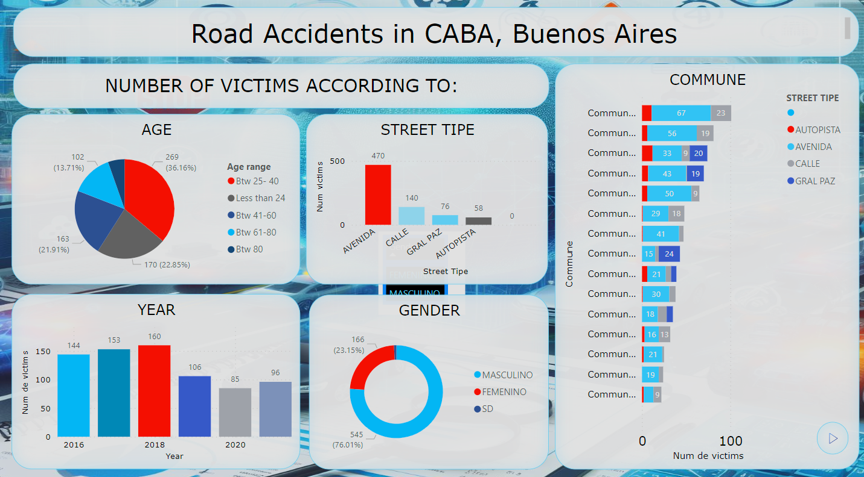

The page's visual inventory and layout, read from the dashboard file:
{"tool":"powerbi","page":{"name":"VICTIMSBY","canvas":[1280,720],"ordinal":1},"visuals":[{"type":"pieChart","title":"AGE","fields":{"Y":["Sum(df_road_accidents.Num victims)"],"Category":["df_road_accidents.Age range"]},"box":[19.3,174.9,425.7,252.1],"z":1000},{"type":"textbox","box":[21.1,16.7,1247.5,73.4],"z":3000},{"type":"barChart","title":"COMMUNE","fields":{"Category":["df_road_accidents.Commune"],"Series":["df_road_accidents.Street Tipe"],"Y":["Sum(df_road_accidents.Num victims)"]},"box":[820.2,100.2,448.5,599.8],"z":3500},{"type":"clusteredColumnChart","title":"YEAR","fields":{"Category":["df_road_accidents.Date.Variación.Jerarquía de fechas.Año","df_road_accidents.Date.Variación.Jerarquía de fechas.Trimestre","df_road_accidents.Date.Variación.Jerarquía de fechas.Mes","df_road_accidents.Date.Variación.Jerarquía de fechas.Día"],"Y":["Sum(df_road_accidents.Num victims)"]},"box":[19.3,440.2,425.7,259.3],"z":4000},{"type":"columnChart","title":"STREET TIPE","fields":{"Category":["df_road_accidents.Street Tipe"],"Y":["Sum(df_road_accidents.Num victims)"]},"box":[453.5,174.9,357,252.1],"z":5000},{"type":"donutChart","title":"GENDER","fields":{"Y":["CountNonNull(df_road_accidents.Victim)"],"Category":["df_road_accidents.Gender"]},"box":[457.1,441.4,353.4,258.1],"z":6000},{"type":"textbox","box":[20.8,100.2,790.5,66.2],"z":7000},{"type":"image","box":[1206.3,629.9,45,47.9],"z":11001}]}

Visuals, with their boxes in screenshot pixels (x1, y1, x2, y2), scaled from the page's 1280x720 canvas onto the 864x477 screenshot:
"AGE" pieChart: rect(13, 116, 300, 283)
textbox: rect(14, 11, 856, 60)
"COMMUNE" barChart: rect(554, 66, 856, 464)
"YEAR" clusteredColumnChart: rect(13, 292, 300, 463)
"STREET TIPE" columnChart: rect(306, 116, 547, 283)
"GENDER" donutChart: rect(309, 292, 547, 463)
textbox: rect(14, 66, 548, 110)
image: rect(814, 417, 845, 449)
